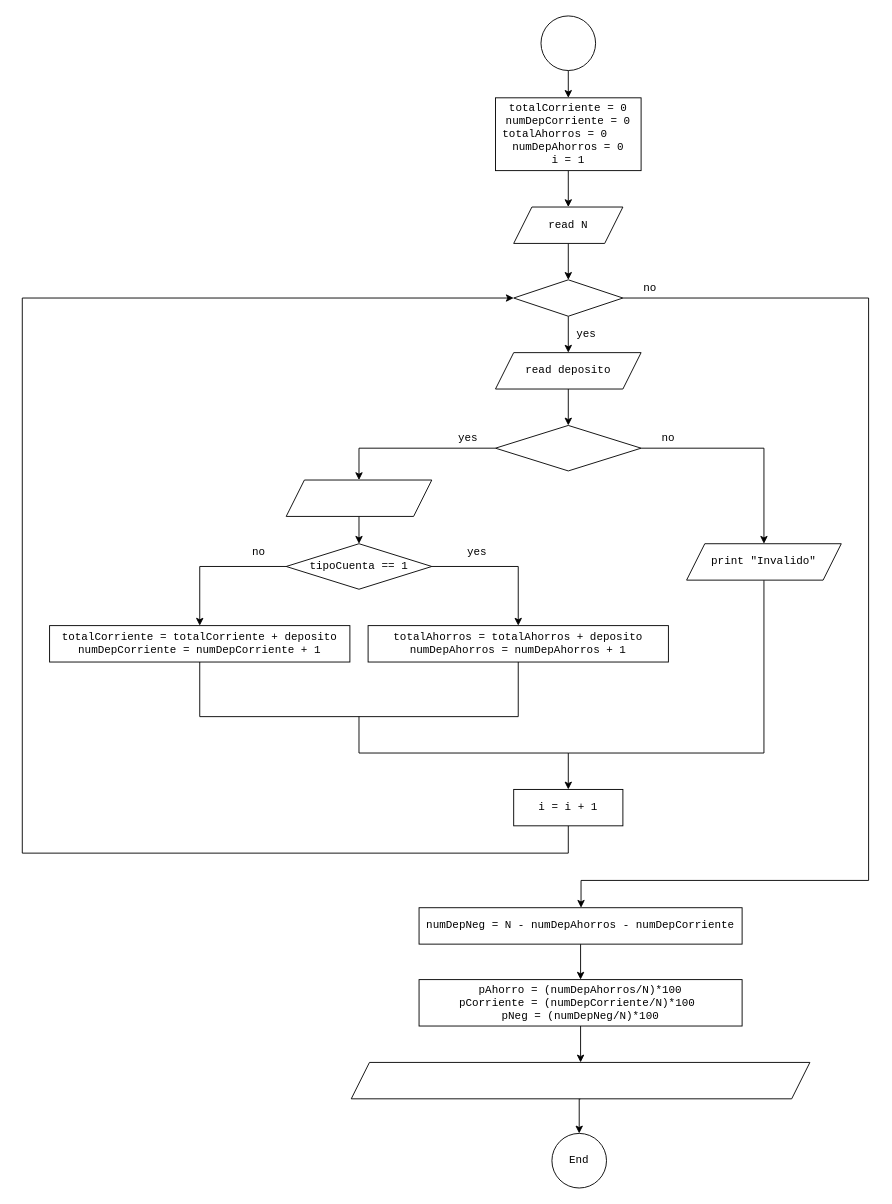
Image size: 892x1204. Some labels were removed from this diagram. Each missing label, with the centre of its shape:
"deposito >= 0" goes at pixel 568 448.
"i <= N" goes at pixel 568 297.
"print totalAhorros, pAhorro, totalCorriente, pCorriente, pNeg" goes at pixel 580 1080.
"read tipoCuenta" goes at pixel 358 497.
"Start" goes at pixel 568 43.
